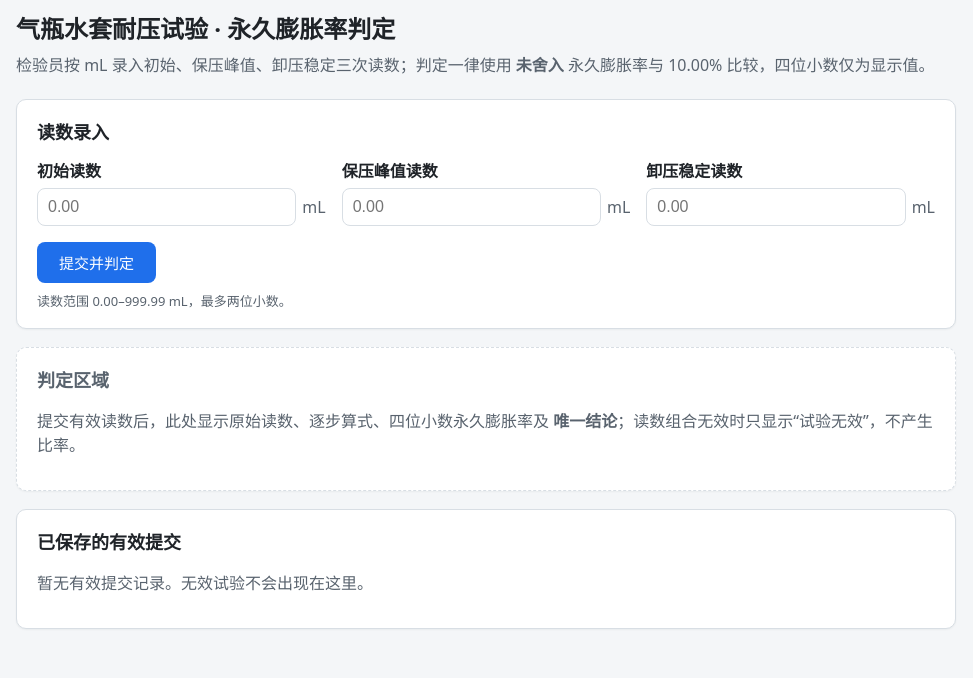
Test: App 判定流程（fetch 为接缝，展示与交互全真实） › 试验无效：只显示无效面板，不出现比率与 PASS/FAIL 结论
This screenshot has width=973, height=678.
Type "10.00" into the field with test id "input-initial". click: (167, 207)
box: [37,188,296,226]
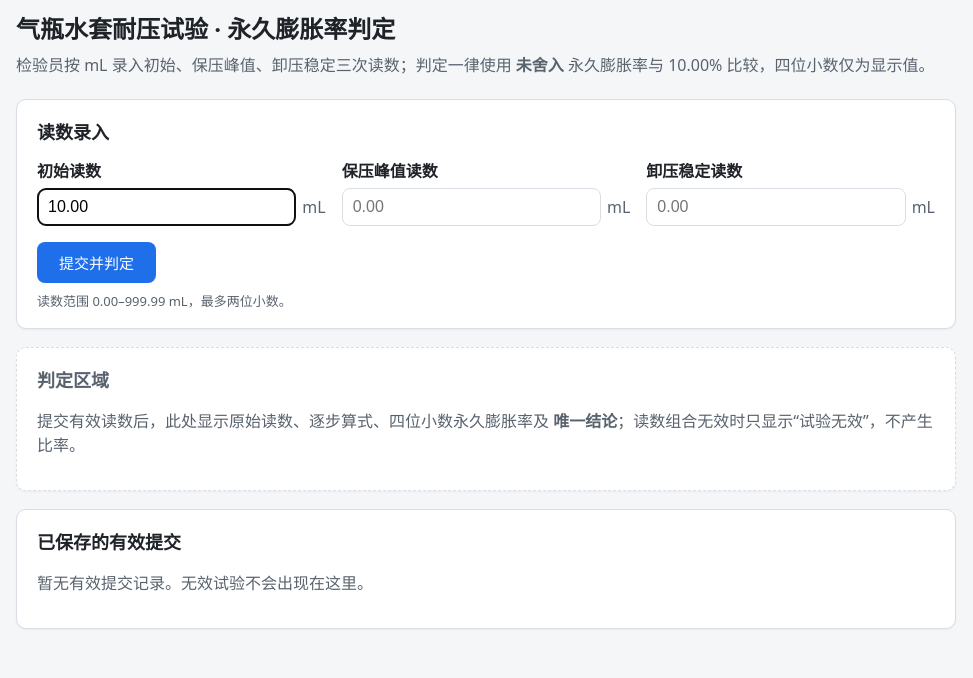
Type "10.00" into the field with test id "input-peak". click: (471, 207)
box: [342,188,601,226]
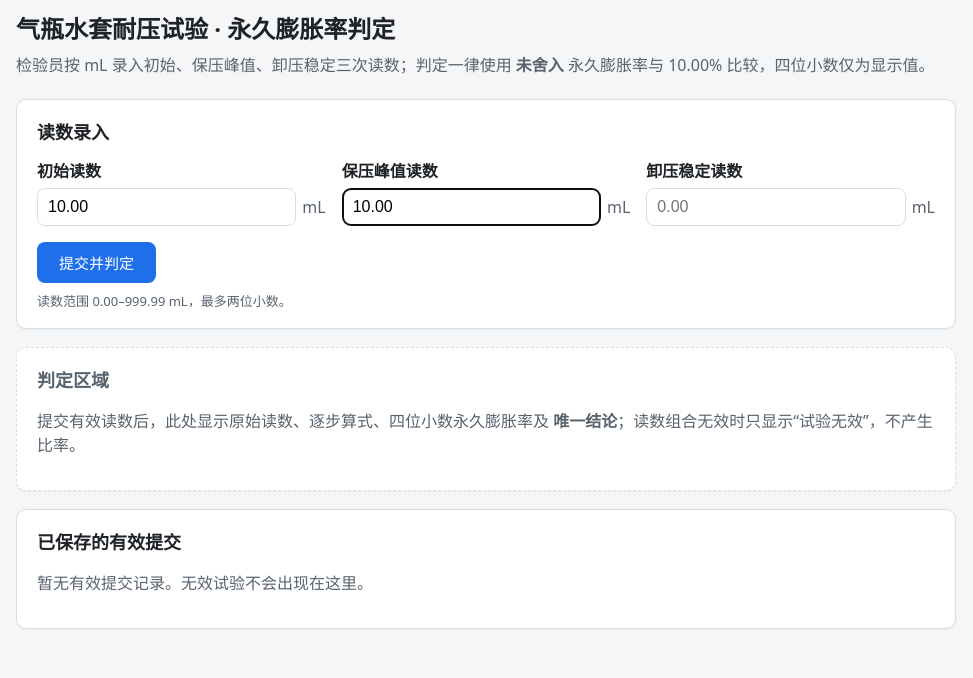
Type "10.00" into the field with test id "input-released". click: (776, 207)
box: [646,188,906,226]
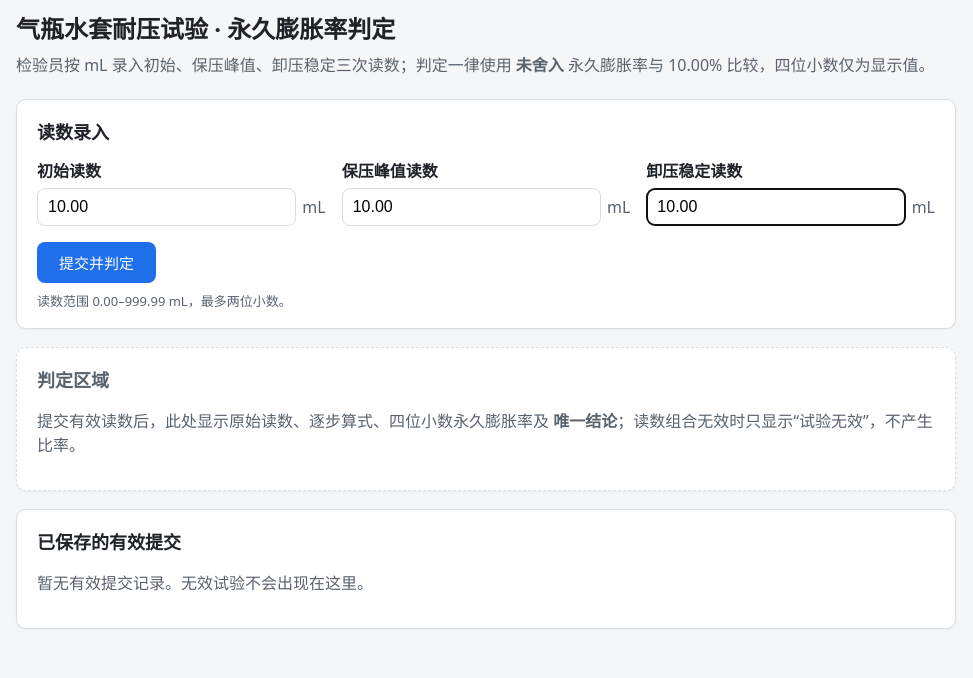
Click the button with test id "submit-button". click: (96, 262)
box: [37,242,156,283]
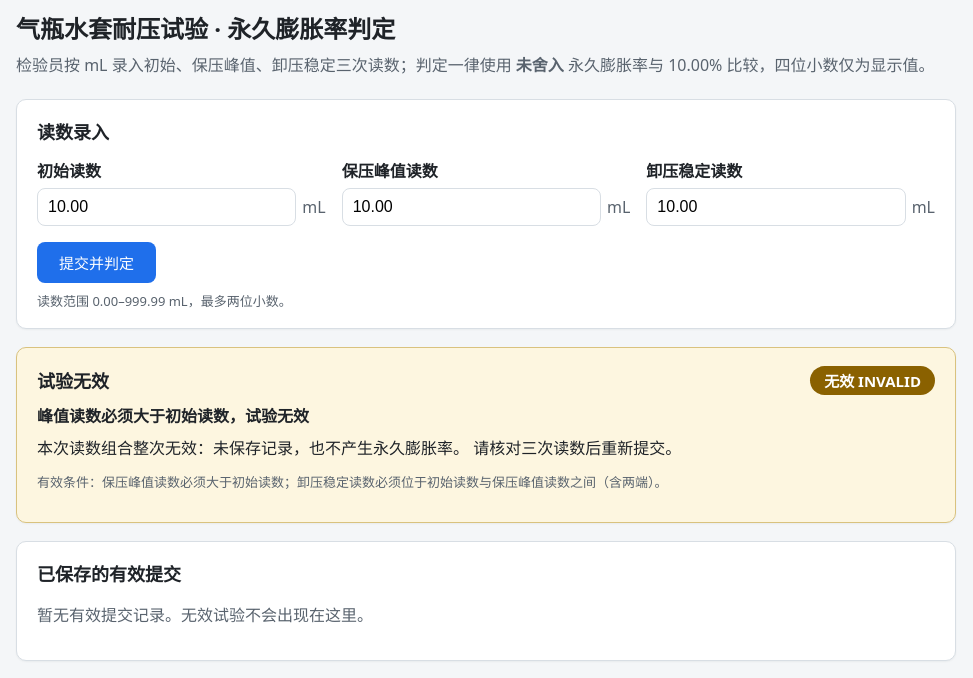
Result: the element with test id "invalid-panel" shows "试验无效" at [37,369,109,393]
Result: the element with test id "invalid-panel" shows "不产生永久膨胀率" at [37,437,681,459]
